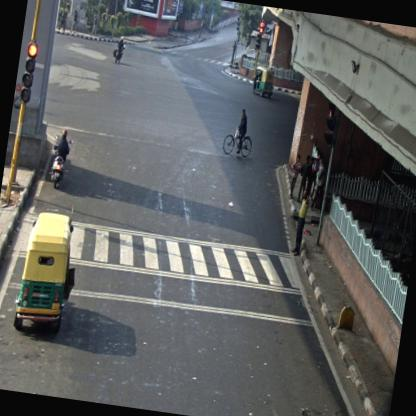motorcycle: (220, 106, 255, 161), (46, 124, 72, 188), (112, 33, 127, 63)
